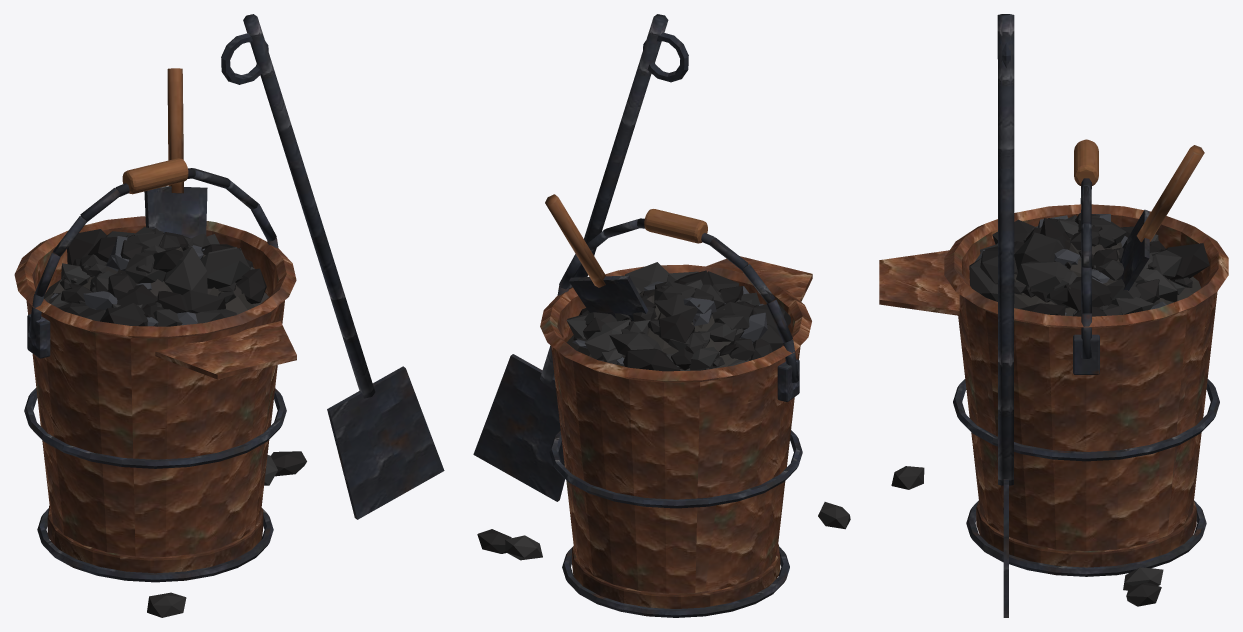
The model's file is ef_coal_scuttle.glb.
3 views of the same model, side by side, from view 1: azimuth 30°, elevation 25°; view 2: azimuth 150°, elevation 25°; view 3: azimuth 270°, elevation 25° (orthographic). The views are drawn at different scales.
Parts seen in each view (by area): view 1: model; view 2: model; view 3: model.
Part boxes in pixels (<box>): model: <box>14,14,444,617</box>; model: <box>473,14,850,617</box>; model: <box>879,14,1228,617</box>.
Size of the model in its own units: 0.6584 by 0.8937 by 0.5228.
Materials: 13 (4 with a texture image).
